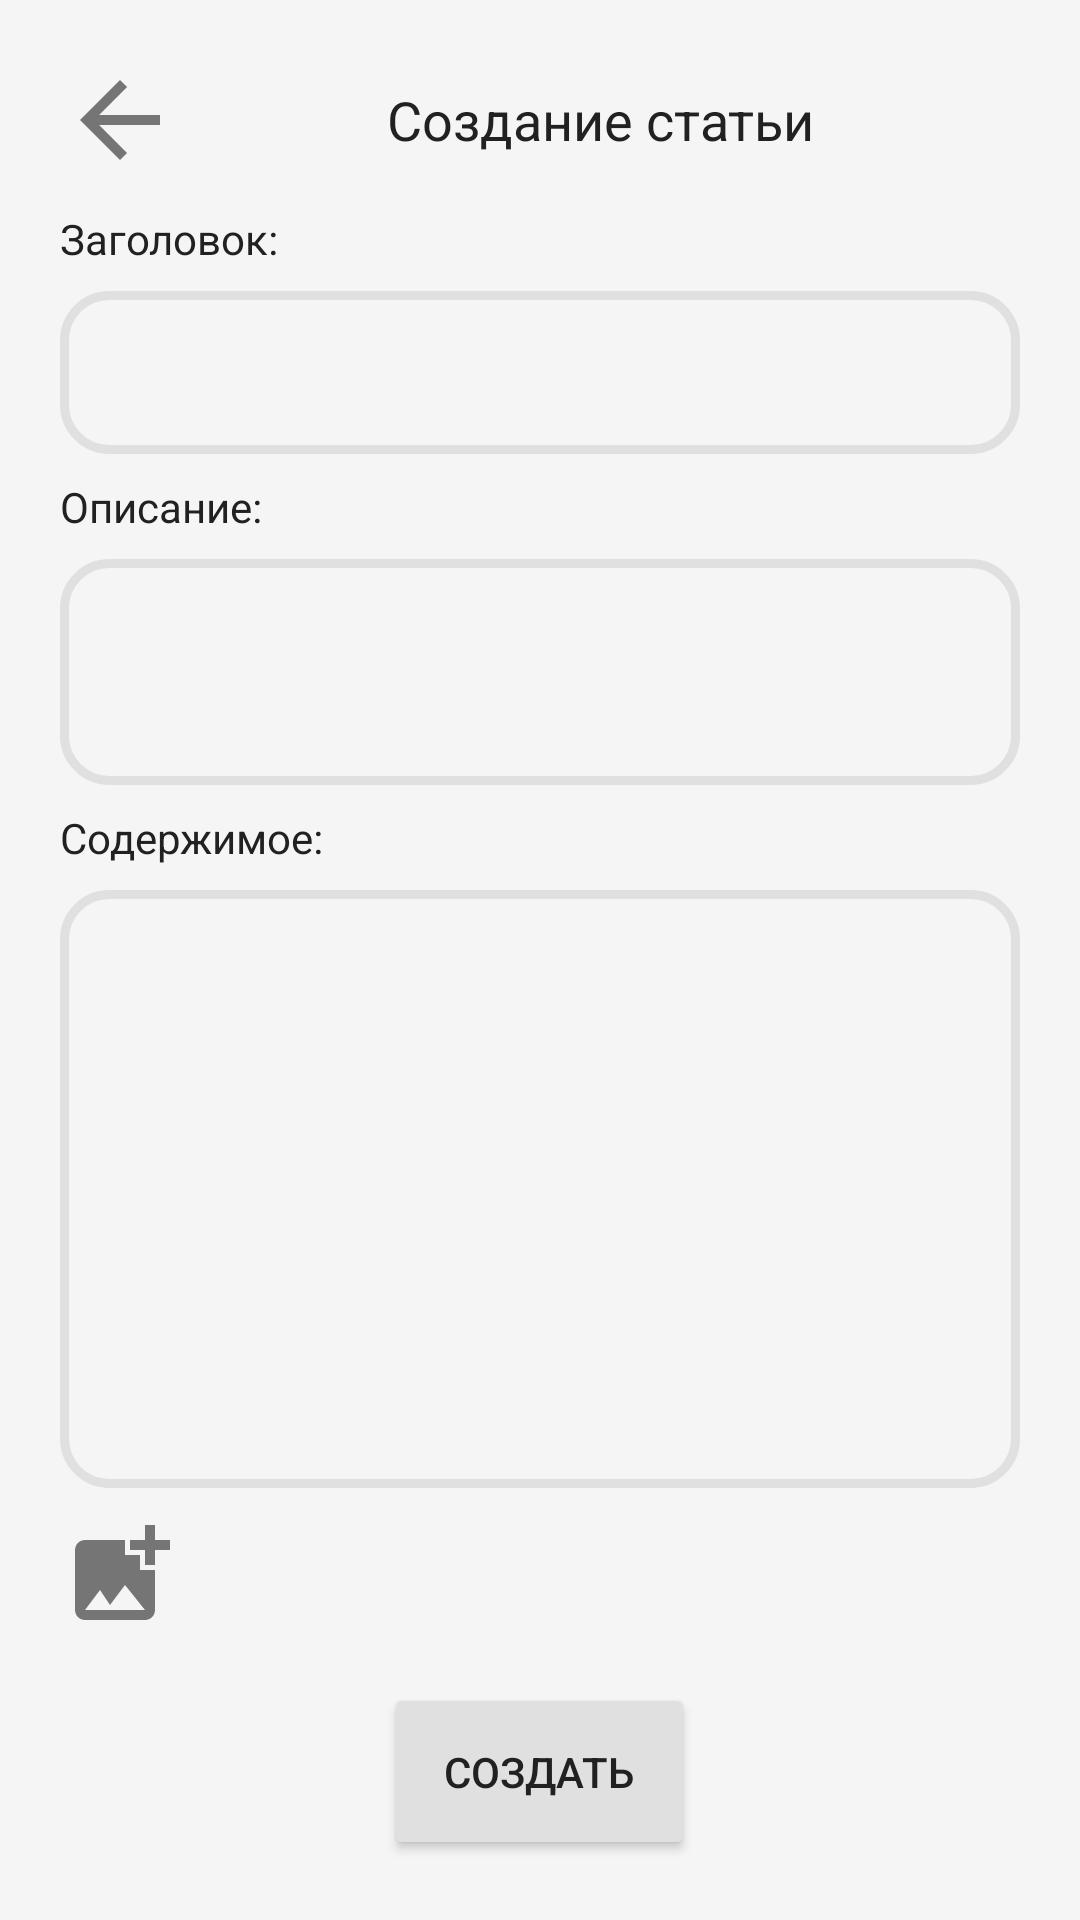

Locate icon controls on the screen. Image size 1080w x 1920h, boxes as (x1, y1, x2, y2).
add photo alternate: (75, 1525, 170, 1620)
